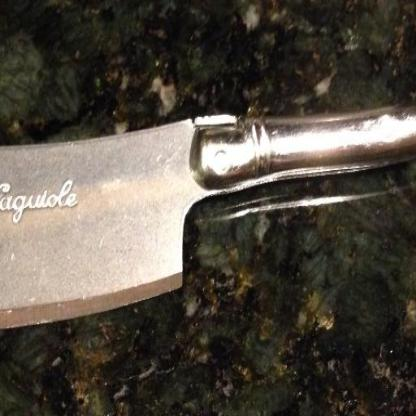knife: (0, 99, 415, 340)
